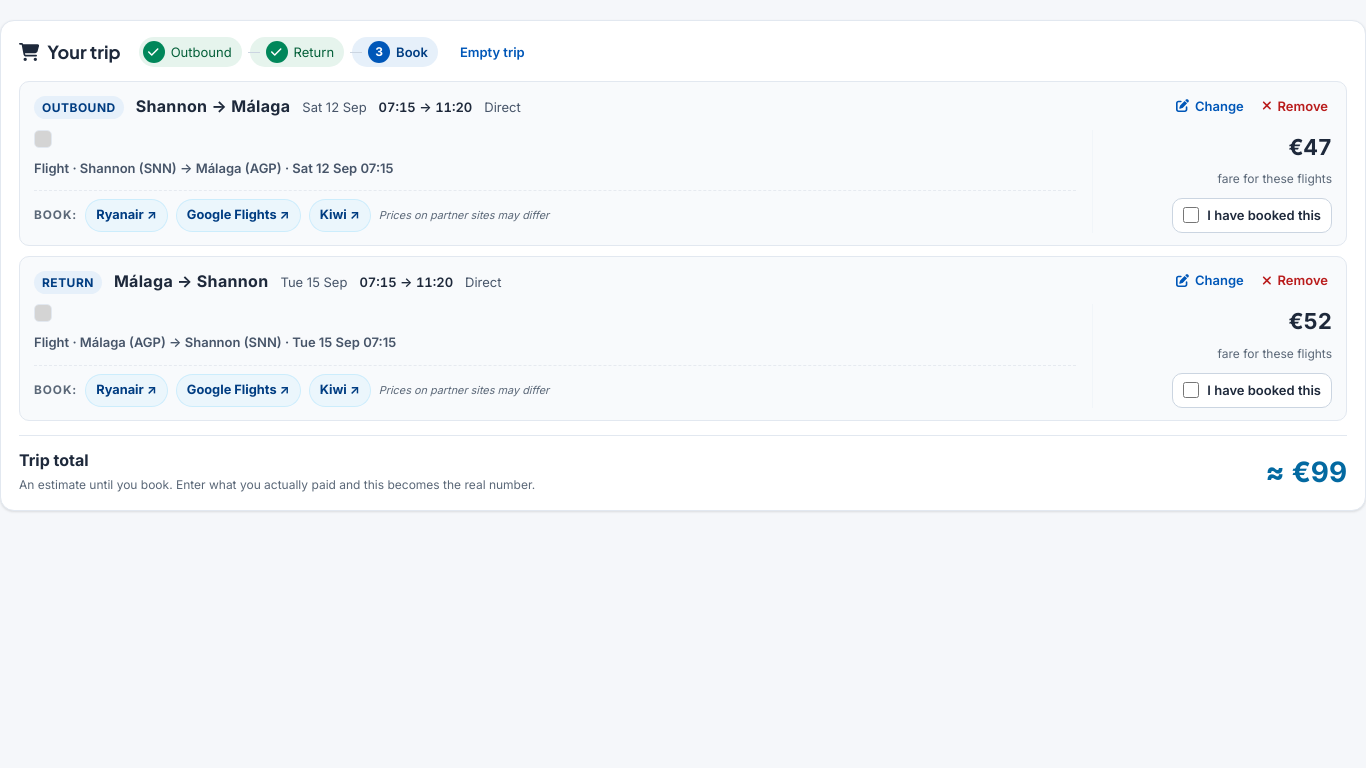
Scenario: FlightCart › asks what was paid only once a flight is ticked off, and puts that in the total
Click the checkbox labelled "I have booked this" below "€47": (1191, 215) [1183,207,1199,223]
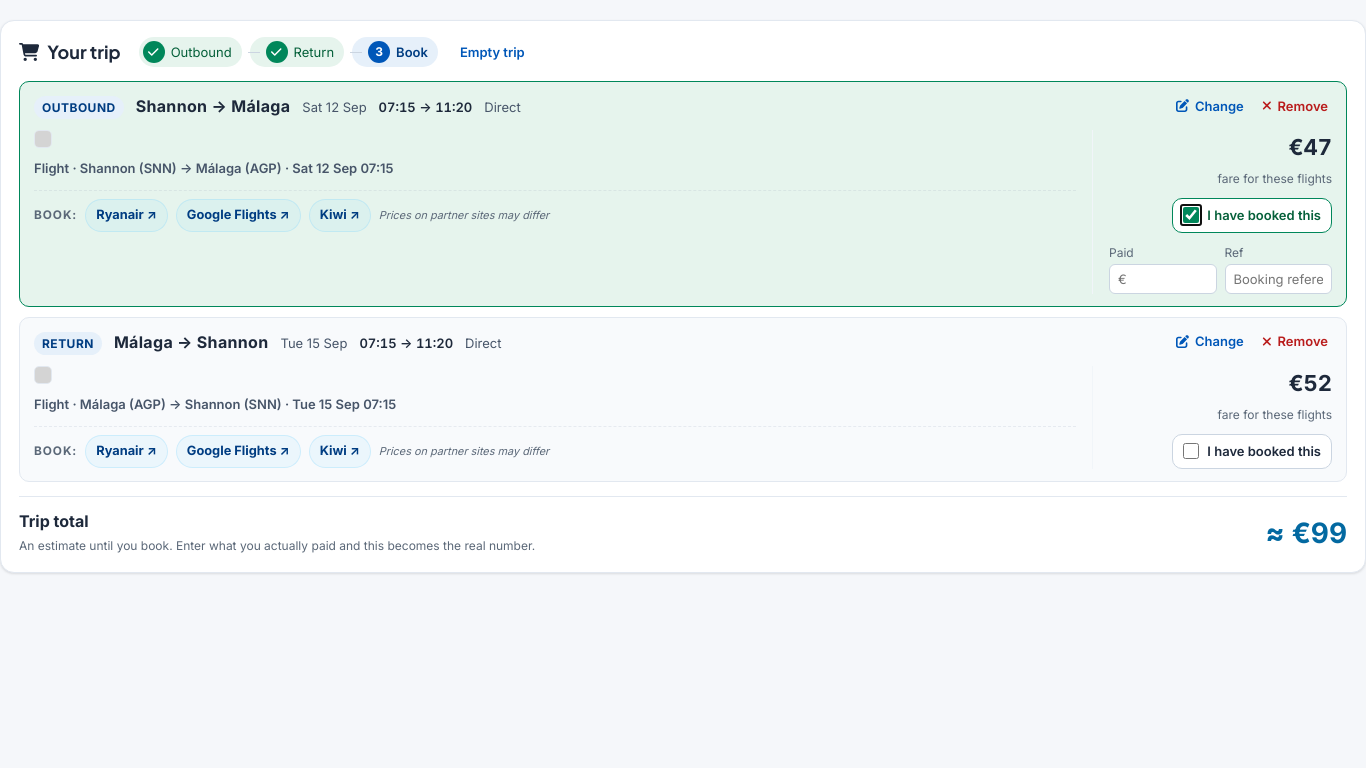
In the field with placeholder "€": (1163, 279) [1109,264,1216,294], type "61"
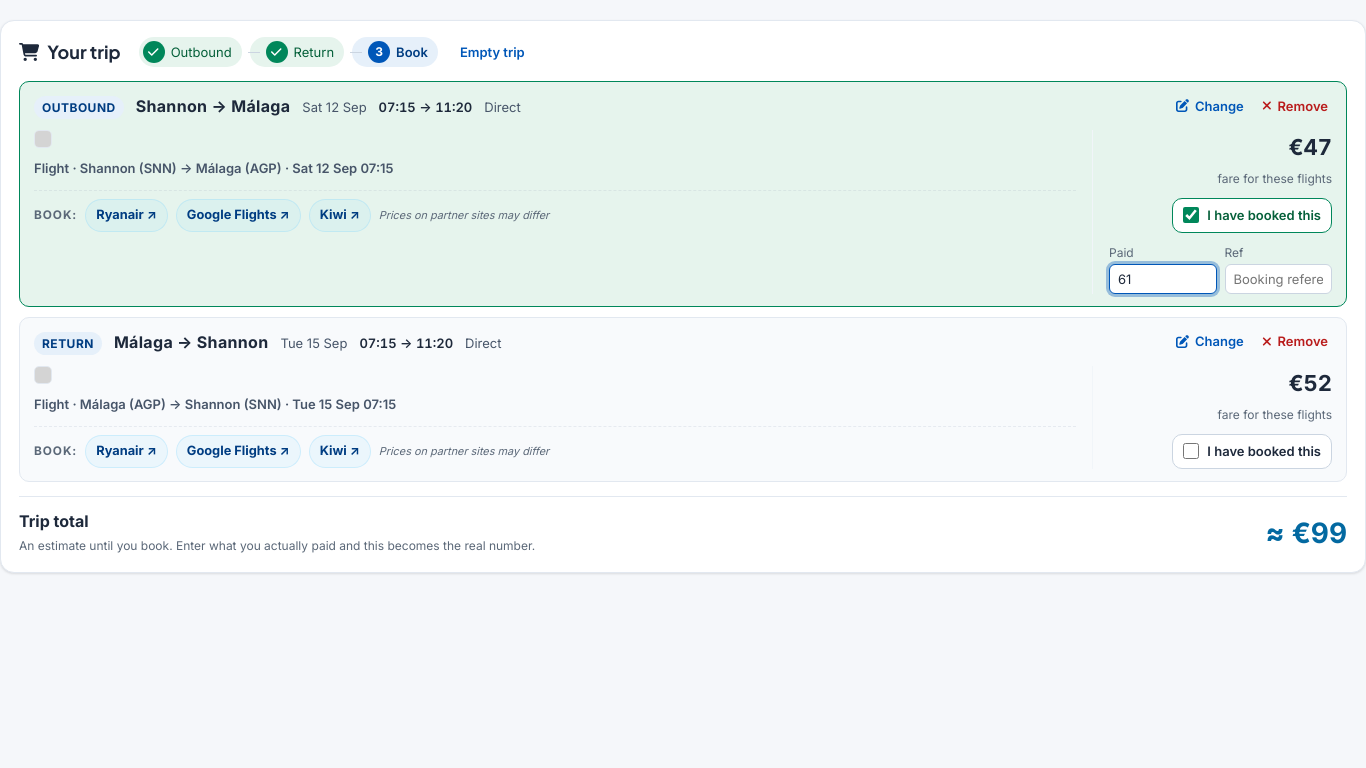
Press Tab
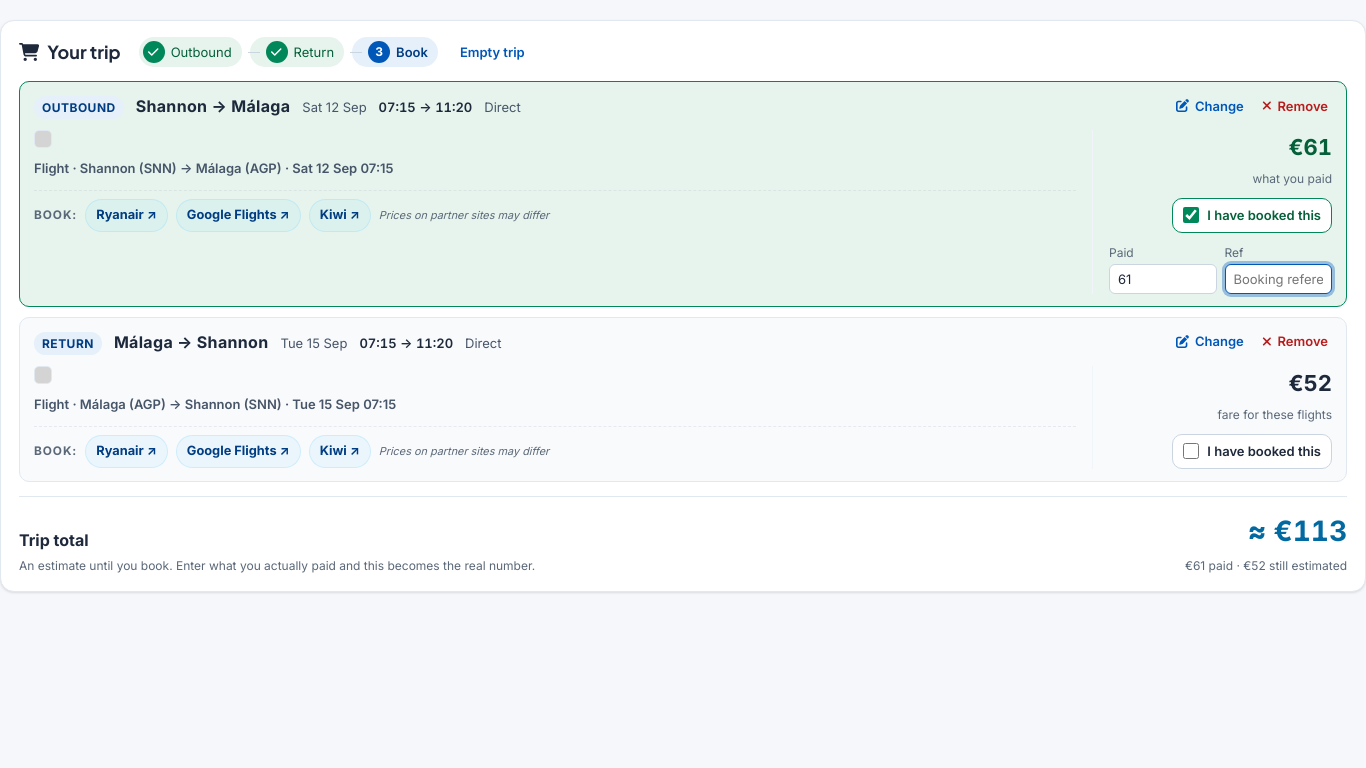
Now the text "≈ €113" is shown, box [1248,509,1347,554]
Now the text "€61 paid · €52 still estimated" is shown, box [1185,556,1347,575]
